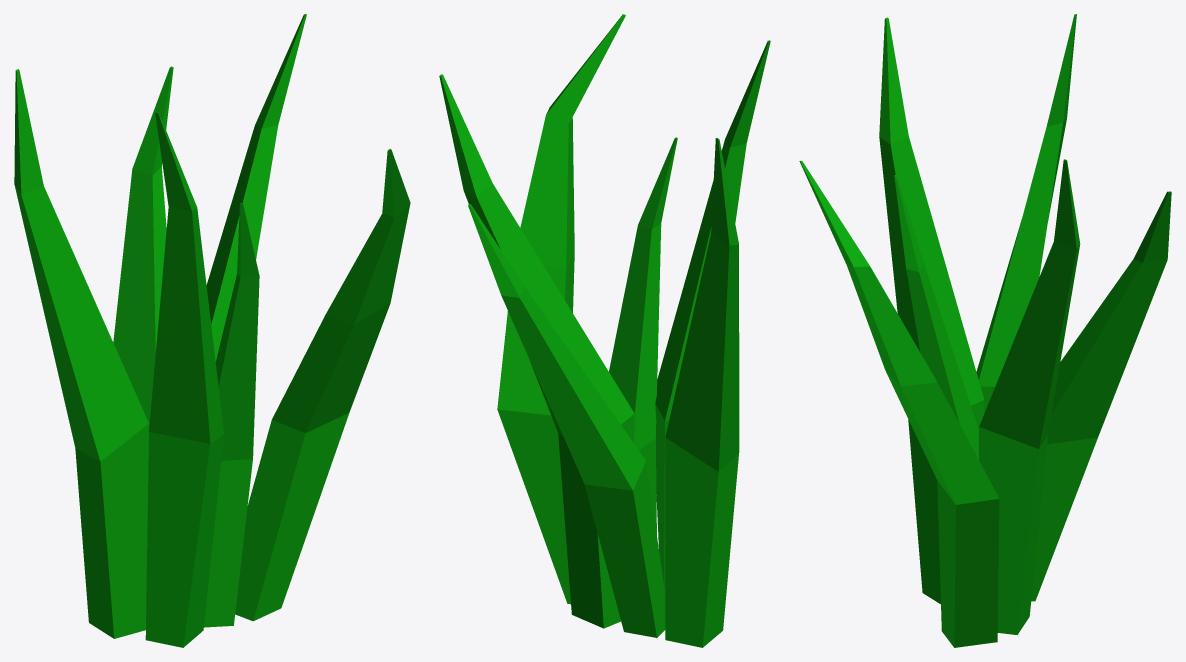
File: grass1.fbx
3 views of the same model, side by side, from view 1: azimuth 30°, elevation 25°; view 2: azimuth 150°, elevation 25°; view 3: azimuth 270°, elevation 25° (orthographic).
Visible parts, largest first — view 1: Cube.025, Cube.028, Cube.030, Cube.029, Cube.026, Cube.027; view 2: Cube.025, Cube.026, Cube.030, Cube.027, Cube.029, Cube.028; view 3: Cube.030, Cube.027, Cube.026, Cube.028, Cube.025, Cube.029.
Part boxes in pixels (x1,y1,x2,y2): Cube.025: (14,69,148,638); Cube.028: (145,111,224,647); Cube.030: (235,149,410,621); Cube.029: (204,203,259,627); Cube.026: (113,66,173,428); Cube.027: (206,14,306,361); Cube.025: (665,138,739,647); Cube.026: (468,204,665,637); Cube.030: (497,14,625,604); Cube.027: (439,74,634,628); Cube.029: (609,137,677,534); Cube.028: (655,40,770,592); Cube.030: (799,160,999,647); Cube.027: (979,159,1080,634); Cube.026: (1031,191,1171,601); Cube.028: (879,17,984,604); Cube.025: (976,14,1076,413); Cube.029: (894,175,978,459).
Size of the model in its own units: 0.9097 by 1.01 by 1.66.
